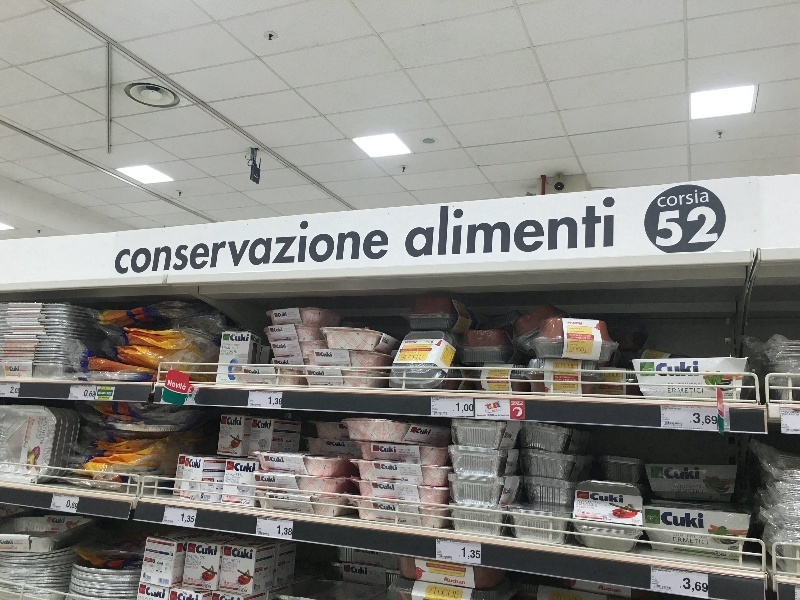text: (417, 193, 432, 264), (433, 193, 448, 264), (449, 193, 464, 264), (465, 193, 480, 264), (481, 193, 496, 264), (497, 193, 512, 264), (513, 193, 528, 264), (529, 193, 544, 264), (545, 193, 560, 264), (561, 193, 576, 264), (577, 193, 592, 264), (593, 193, 608, 264), (129, 216, 144, 279), (145, 216, 160, 279), (161, 216, 176, 279), (177, 216, 192, 279), (193, 216, 208, 279), (209, 216, 224, 279), (225, 216, 240, 279), (241, 216, 256, 279), (257, 216, 272, 279), (273, 216, 288, 279), (289, 216, 304, 279), (305, 216, 320, 279), (321, 216, 336, 279), (337, 216, 352, 279), (353, 216, 368, 279), (369, 216, 384, 279), (405, 193, 416, 264), (116, 216, 128, 279), (609, 193, 619, 264), (657, 204, 672, 249), (673, 204, 688, 249), (689, 204, 704, 249), (705, 204, 720, 249), (258, 546, 272, 568), (657, 189, 672, 209), (673, 189, 688, 209), (689, 189, 704, 209), (673, 512, 688, 531), (689, 512, 704, 531), (657, 360, 672, 378), (673, 360, 688, 378), (689, 578, 704, 596), (385, 216, 389, 279), (245, 434, 256, 456), (673, 466, 688, 481), (433, 562, 448, 577), (449, 562, 464, 577), (465, 547, 481, 561), (433, 586, 448, 600), (661, 512, 672, 531), (689, 360, 700, 378), (705, 412, 718, 427), (689, 543, 704, 556), (674, 543, 688, 556), (689, 466, 701, 481), (593, 493, 608, 505), (609, 493, 624, 505), (245, 418, 256, 434), (241, 548, 254, 561), (161, 541, 175, 553), (693, 412, 704, 427), (241, 462, 256, 473), (417, 345, 433, 355), (289, 542, 297, 562), (67, 499, 80, 511), (147, 588, 160, 600), (196, 545, 208, 558), (147, 549, 160, 561), (41, 418, 48, 440), (449, 586, 460, 600), (353, 567, 368, 577), (161, 549, 173, 561), (43, 417, 48, 445), (281, 542, 288, 562), (149, 541, 160, 553), (181, 513, 192, 525), (277, 525, 288, 537), (403, 345, 416, 355), (259, 420, 272, 430), (209, 545, 219, 558), (275, 421, 288, 431), (705, 543, 715, 556), (177, 380, 187, 392), (1, 504, 16, 512), (577, 334, 592, 342), (664, 466, 672, 481), (289, 421, 301, 431), (273, 430, 288, 438), (209, 460, 224, 468), (673, 537, 688, 545), (689, 537, 704, 545), (369, 574, 384, 582), (449, 577, 464, 585), (39, 417, 48, 430), (609, 585, 622, 594), (577, 347, 591, 355), (418, 428, 432, 436), (225, 558, 241, 565), (209, 470, 225, 477), (289, 462, 305, 469), (85, 389, 96, 399), (37, 429, 48, 439), (273, 396, 283, 407), (228, 417, 240, 426), (385, 338, 400, 345), (561, 363, 576, 370), (673, 387, 688, 394), (689, 387, 704, 394), (657, 567, 672, 574), (673, 567, 688, 574), (561, 593, 576, 600), (232, 548, 240, 561), (705, 189, 710, 209), (455, 403, 464, 414), (465, 403, 474, 414), (485, 402, 496, 411), (193, 459, 202, 470), (449, 350, 456, 364), (178, 593, 192, 600), (289, 430, 301, 438), (1, 540, 16, 546), (273, 327, 288, 333), (442, 347, 448, 362), (561, 383, 576, 389), (662, 414, 672, 423), (577, 500, 592, 506), (241, 499, 256, 505), (689, 489, 704, 495), (673, 533, 688, 539), (689, 533, 704, 539), (683, 578, 688, 596), (449, 539, 464, 545), (169, 380, 176, 392), (290, 360, 304, 366), (402, 355, 416, 361), (609, 372, 621, 379), (641, 367, 655, 373), (385, 465, 399, 471), (273, 457, 285, 464), (226, 472, 240, 478), (674, 489, 688, 495), (385, 553, 394, 562), (609, 391, 622, 397), (785, 416, 791, 429), (275, 496, 288, 502), (53, 518, 64, 525), (385, 484, 396, 491), (385, 505, 396, 512), (261, 476, 272, 483), (225, 429, 232, 440), (433, 397, 448, 402), (449, 397, 464, 402), (369, 571, 384, 576), (427, 562, 432, 577), (577, 515, 592, 520), (225, 595, 240, 600), (231, 334, 240, 342), (241, 334, 250, 342), (385, 447, 397, 453), (161, 588, 167, 600), (436, 539, 448, 545), (600, 585, 608, 594), (353, 444, 362, 452), (278, 311, 288, 318), (290, 317, 304, 322), (337, 353, 347, 360), (609, 385, 623, 390), (649, 351, 656, 361), (146, 558, 160, 563), (674, 484, 688, 489), (689, 484, 703, 489), (657, 569, 671, 574), (497, 384, 508, 390), (273, 546, 276, 568), (321, 352, 334, 357), (563, 391, 576, 396), (568, 334, 576, 342), (561, 379, 577, 383), (184, 472, 192, 480), (289, 311, 298, 318), (577, 341, 586, 348), (276, 344, 288, 349), (278, 360, 288, 366), (289, 343, 299, 349), (657, 351, 663, 361), (673, 384, 688, 388), (689, 384, 704, 388), (673, 427, 688, 431), (689, 427, 704, 431), (673, 406, 688, 410), (785, 411, 800, 415), (785, 413, 800, 417), (193, 556, 205, 561), (577, 502, 592, 506), (577, 504, 592, 508), (225, 478, 240, 482), (225, 566, 237, 571), (369, 550, 379, 556), (577, 506, 592, 510), (401, 477, 416, 481), (225, 480, 240, 484), (18, 373, 32, 377), (225, 347, 239, 351), (498, 414, 512, 418), (569, 347, 576, 355), (178, 466, 192, 470), (460, 547, 464, 561), (325, 372, 336, 377), (235, 462, 240, 473), (417, 355, 426, 361), (577, 328, 586, 334), (593, 500, 602, 506), (705, 578, 708, 596), (227, 350, 240, 354), (721, 402, 725, 415), (689, 406, 702, 410), (225, 562, 238, 566), (225, 564, 238, 568), (257, 433, 262, 443), (710, 496, 720, 501), (294, 507, 304, 512), (278, 481, 288, 486), (193, 593, 200, 600), (553, 593, 560, 600), (20, 366, 32, 370), (513, 403, 525, 407), (289, 525, 293, 537), (346, 444, 352, 452), (337, 442, 345, 448), (11, 386, 16, 395), (17, 386, 22, 395), (225, 344, 240, 347), (257, 391, 272, 394), (497, 402, 502, 411), (673, 394, 688, 397), (177, 554, 186, 559), (379, 553, 384, 562), (401, 472, 416, 475), (401, 454, 416, 457), (231, 450, 240, 455), (261, 371, 272, 375), (220, 429, 224, 440), (9, 366, 16, 372), (249, 369, 256, 375), (569, 328, 576, 334), (570, 341, 576, 348), (554, 363, 560, 370), (561, 376, 575, 379), (506, 488, 512, 495), (378, 484, 384, 491), (226, 476, 240, 479), (178, 469, 192, 472), (361, 550, 368, 556), (465, 539, 472, 545), (722, 554, 736, 557), (312, 371, 320, 376), (566, 322, 576, 326), (600, 385, 608, 390), (662, 427, 672, 431), (662, 406, 672, 410), (662, 407, 672, 411), (252, 433, 256, 443), (145, 596, 155, 600), (193, 563, 201, 568), (225, 570, 235, 574), (177, 559, 185, 564), (177, 565, 185, 570), (593, 515, 601, 520), (99, 392, 112, 395), (781, 416, 784, 429), (401, 492, 414, 495), (100, 397, 112, 400), (289, 327, 295, 333), (487, 413, 496, 417), (513, 401, 525, 404), (724, 394, 736, 397), (673, 407, 682, 411), (193, 558, 202, 562), (177, 557, 186, 561), (603, 372, 608, 379), (667, 387, 672, 394), (379, 505, 384, 512), (185, 468, 192, 473), (377, 563, 384, 568), (269, 396, 272, 407), (401, 467, 412, 470), (225, 426, 233, 430), (264, 567, 272, 571), (193, 561, 201, 565), (177, 562, 185, 566), (444, 577, 448, 585), (289, 351, 304, 353), (262, 378, 272, 381), (406, 341, 416, 344), (449, 347, 451, 362), (379, 447, 384, 453), (257, 429, 263, 434), (177, 472, 192, 474), (177, 474, 192, 476), (186, 563, 192, 568), (186, 566, 192, 571), (193, 566, 199, 571), (602, 516, 608, 521), (331, 442, 336, 448), (25, 440, 32, 444), (273, 476, 277, 483), (204, 470, 208, 477), (689, 567, 693, 574), (430, 586, 432, 600), (425, 441, 432, 445), (257, 336, 260, 345), (225, 353, 234, 356), (718, 402, 720, 415), (321, 371, 326, 376), (203, 583, 208, 588), (289, 481, 294, 486), (106, 391, 112, 395), (257, 369, 261, 375), (284, 327, 288, 333), (337, 361, 349, 363), (577, 322, 583, 326), (554, 379, 560, 383), (724, 393, 736, 395), (590, 493, 592, 505), (508, 433, 512, 439), (380, 465, 384, 471), (401, 508, 409, 511), (193, 513, 195, 525), (705, 537, 708, 545), (186, 561, 192, 565), (716, 551, 720, 557), (728, 546, 736, 549), (728, 548, 736, 551), (190, 459, 192, 470), (277, 479, 288, 481), (333, 353, 336, 360), (269, 457, 272, 464), (217, 480, 224, 483), (289, 460, 296, 463), (401, 487, 408, 490), (653, 567, 656, 574), (252, 429, 256, 434), (188, 556, 192, 561), (139, 596, 144, 600), (401, 449, 411, 451), (187, 558, 192, 562), (593, 502, 598, 506), (652, 569, 656, 574), (220, 595, 224, 600), (731, 553, 736, 557), (705, 512, 706, 531), (17, 366, 20, 372), (254, 336, 256, 345), (273, 391, 279, 394), (327, 379, 336, 381), (605, 391, 608, 397), (655, 360, 656, 378), (241, 417, 243, 426), (241, 472, 244, 478), (705, 533, 708, 539), (289, 334, 297, 336), (593, 334, 595, 342), (668, 384, 672, 388), (206, 460, 208, 468), (593, 504, 597, 508), (348, 452, 352, 456), (289, 468, 293, 472), (251, 391, 256, 394), (337, 372, 340, 377), (555, 376, 560, 379), (241, 587, 244, 592), (465, 562, 466, 577), (65, 518, 67, 525), (447, 350, 448, 364), (513, 460, 515, 467), (286, 462, 288, 469), (577, 593, 579, 600), (481, 415, 487, 417), (668, 394, 672, 397), (689, 394, 693, 397), (781, 411, 784, 415), (781, 413, 784, 417), (221, 426, 224, 430), (157, 562, 160, 566), (161, 562, 164, 566), (396, 487, 400, 490), (190, 495, 192, 501), (401, 518, 404, 522), (337, 379, 342, 381), (577, 391, 579, 396), (351, 567, 352, 577), (222, 566, 224, 571), (174, 565, 176, 570), (238, 587, 240, 592), (221, 353, 224, 356), (273, 378, 276, 381), (289, 440, 292, 443), (222, 347, 224, 351), (273, 371, 275, 375), (286, 561, 288, 565), (289, 561, 291, 565), (225, 460, 226, 468), (222, 564, 224, 568), (222, 570, 224, 574), (174, 562, 176, 566), (465, 577, 466, 585), (593, 506, 595, 510), (401, 458, 403, 462), (398, 497, 400, 501), (511, 460, 512, 467), (223, 558, 224, 565), (289, 360, 290, 366), (287, 343, 288, 349), (477, 415, 480, 417), (495, 384, 496, 390), (513, 433, 514, 439), (286, 440, 288, 443), (286, 460, 288, 463), (193, 495, 194, 501), (366, 583, 368, 586), (737, 546, 739, 549), (737, 548, 739, 551), (398, 492, 400, 495), (289, 496, 290, 502), (193, 468, 194, 473), (175, 559, 176, 564), (222, 351, 224, 353), (286, 334, 288, 336), (511, 403, 512, 407), (398, 449, 400, 451), (223, 562, 224, 566), (399, 458, 400, 462), (399, 518, 400, 522), (401, 497, 402, 501), (223, 344, 224, 347), (417, 341, 418, 344), (495, 415, 496, 418), (497, 415, 498, 418), (511, 401, 512, 404), (559, 376, 560, 379), (399, 467, 400, 470), (399, 508, 400, 511), (369, 583, 370, 586), (399, 454, 400, 457), (225, 351, 226, 353), (335, 361, 336, 363)
